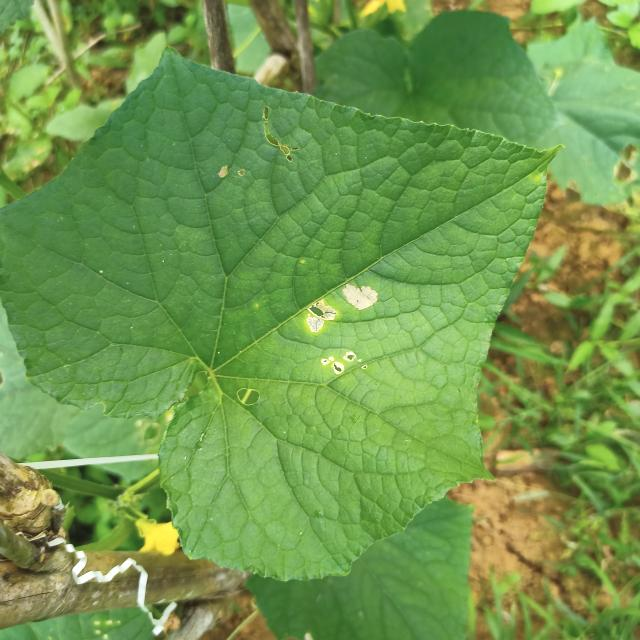disease_cucumber: (303, 280, 381, 382)
